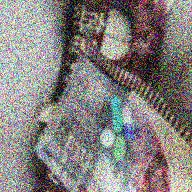러키펜정: (101, 129, 115, 149)
씨엠지세파클러캡슐: (122, 107, 134, 143)
에르도캡슐: (111, 96, 123, 134)
휴티렌정: (113, 134, 126, 163)
